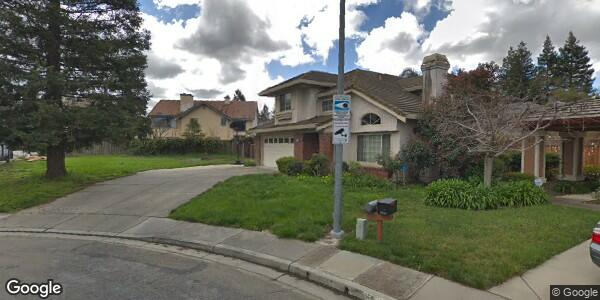Steel_Pole: (327, 1, 353, 239)
